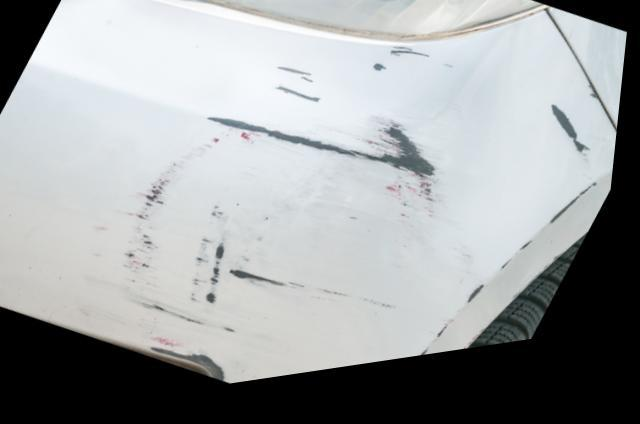scratch: (116, 58, 472, 392), (418, 118, 608, 371)
